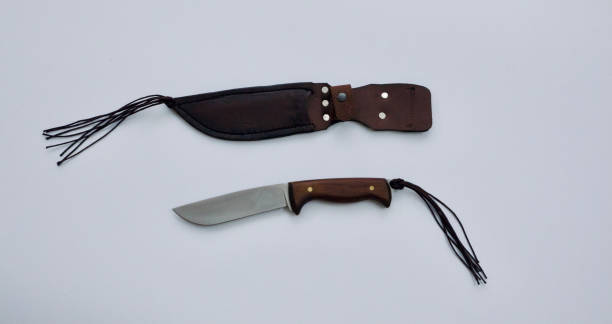knife: (170, 174, 394, 228)
